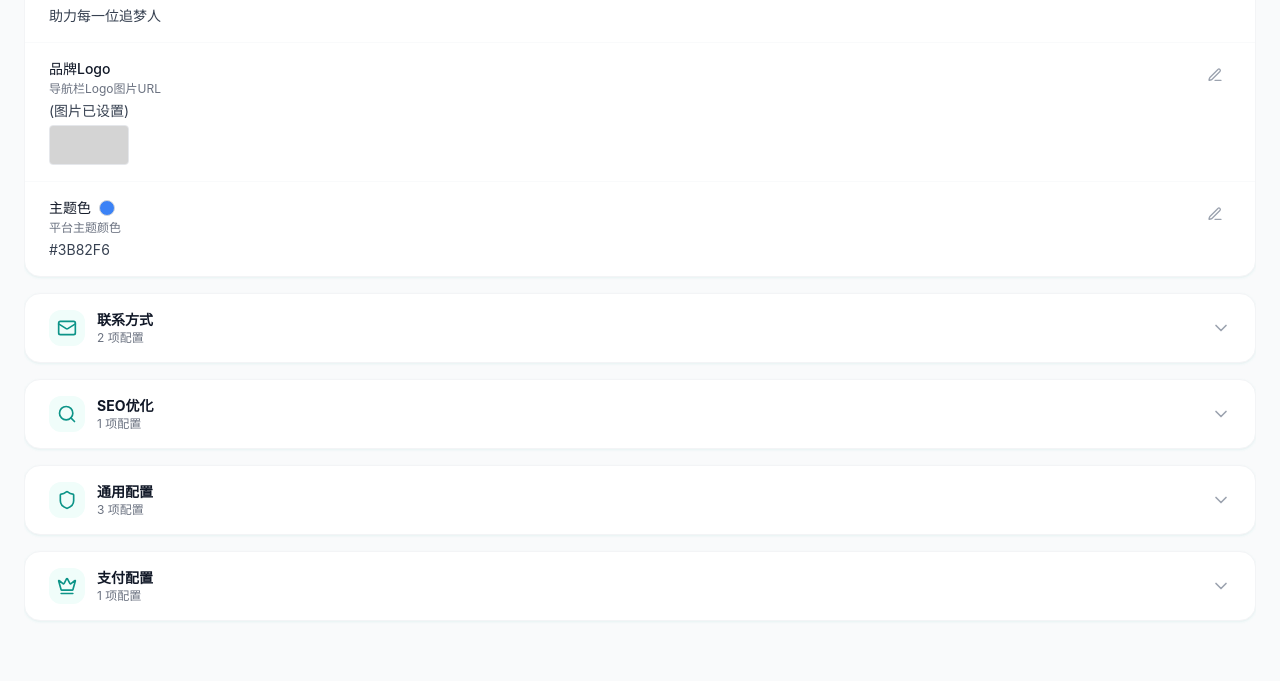
Scenario: AdminSettings › 动态表单字段 › 正常：json 类型渲染为 textarea
(page scrolled)
# 展开 payment 分组
Click the heading "支付配置" at (125, 578), box x1=97 y1=568 x2=153 y2=588
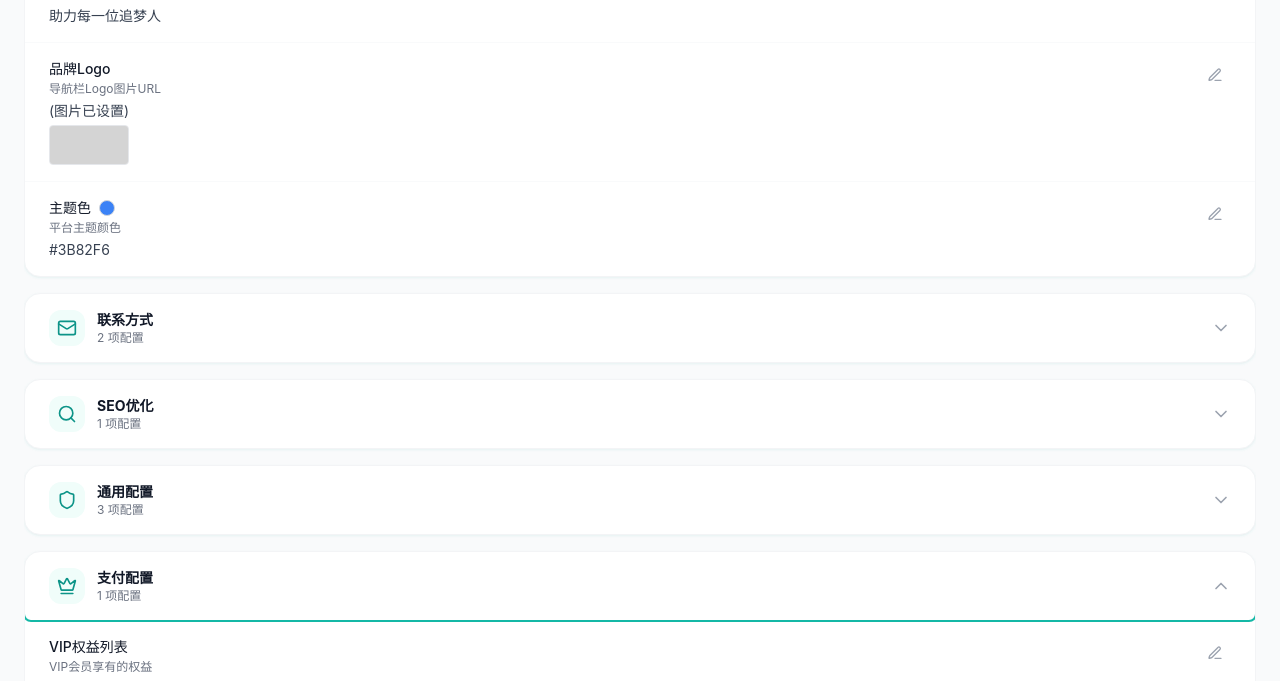
Click the button without text in the row of "VIP会员享有的权益" at (1215, 653), box x1=1199 y1=637 x2=1231 y2=669
(page scrolled)
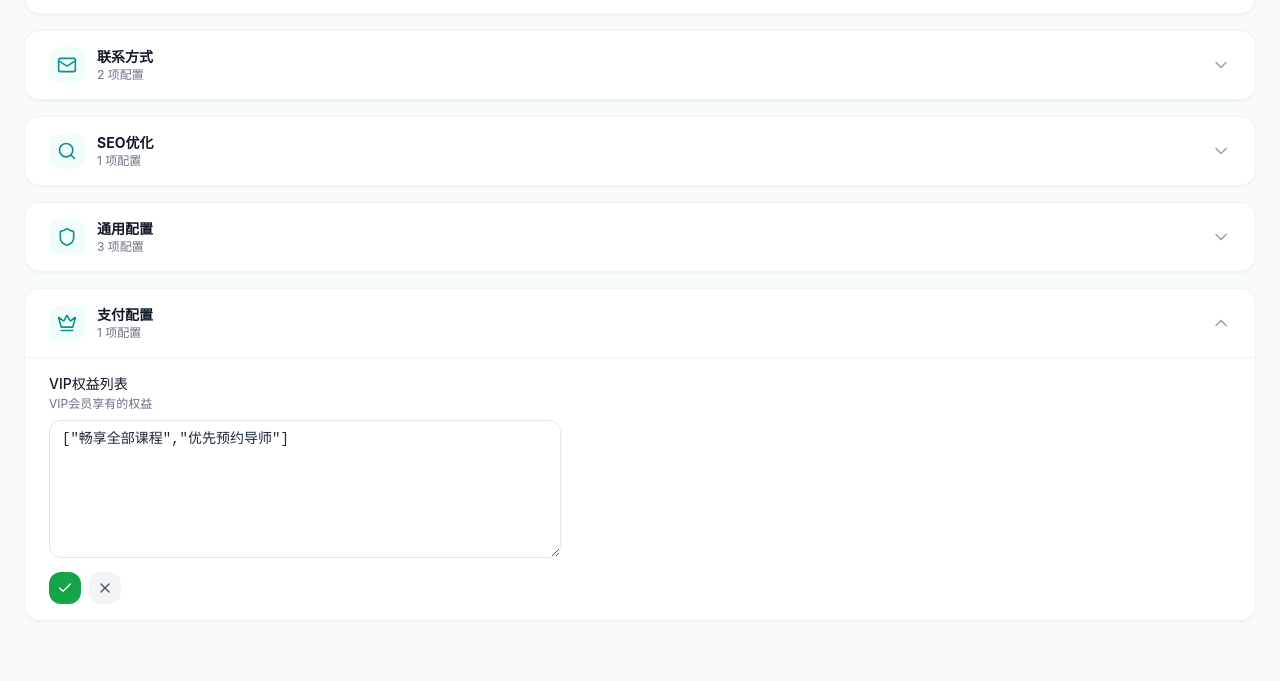
Expected: the text box is shown, x1=49 y1=420 x2=561 y2=558
